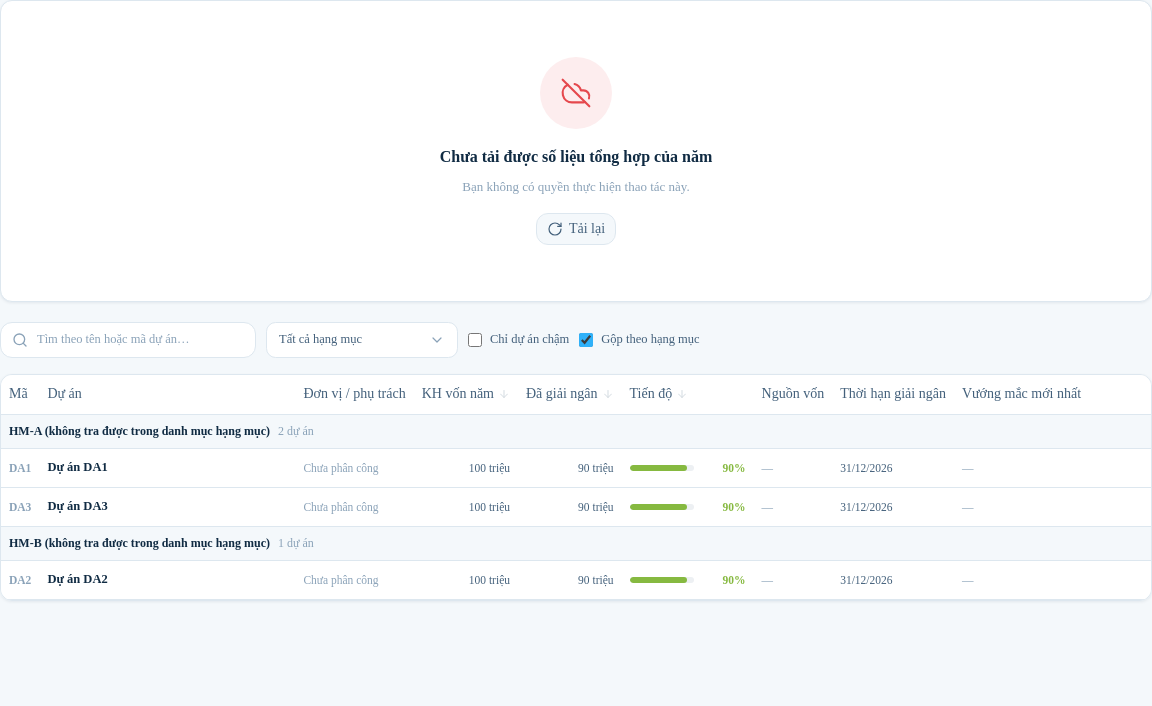
register with the year summary › summary failed: the list still works, headers count rows, the summary says why and retries
Expected: the number of cells with class "ma-muc" is 3, [1,449,39,488]; [1,488,39,527]; [1,561,39,600]
Click the button "Tải lại" at [576, 228], box [536,212,616,244]
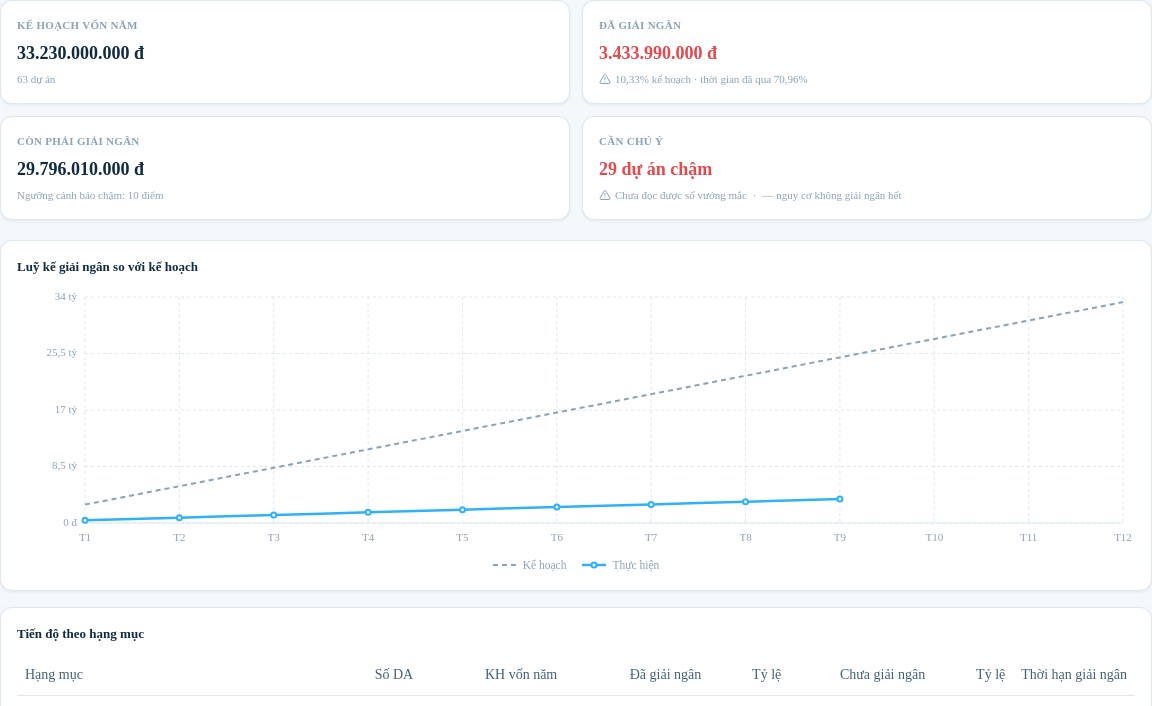
Result: the element that starts with "Kế hoạch vốn năm" is shown at [0,0,1151,220]
